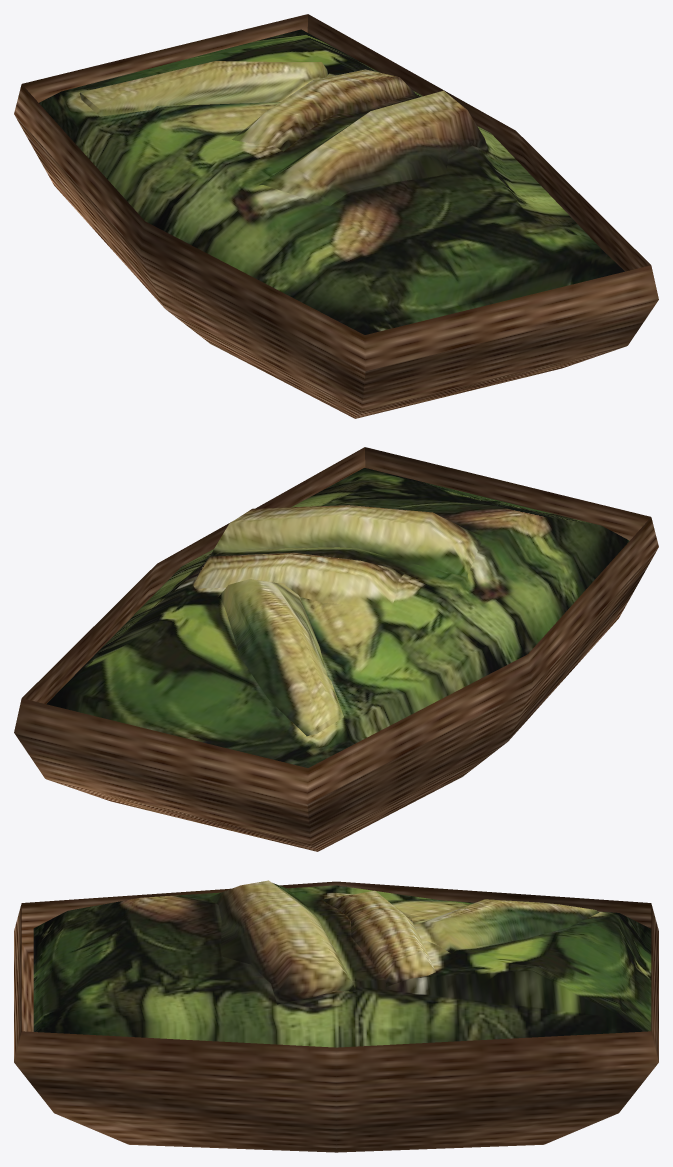
Rendered from cornbasket.fbx.
3 renders of one model, top to bottom at view 1: azimuth 30°, elevation 25°; view 2: azimuth 150°, elevation 25°; view 3: azimuth 270°, elevation 25°, orthographic. The views are drawn at different scales.
Visible parts, largest first — view 1: pSphere1, lod_high, pSphere4, pSphere6, pSphere5; view 2: pSphere1, lod_high, pSphere4, pSphere6, pSphere5; view 3: lod_high, pSphere1, pSphere4, pSphere6, pSphere5.
Boxes of the visible parts, x1,y1,x2,y2 form: pSphere1: (39,29,624,334); lod_high: (14,14,658,418); pSphere4: (258,90,488,205); pSphere6: (79,61,329,116); pSphere5: (232,69,417,151); pSphere1: (46,468,629,767); lod_high: (14,447,658,851); pSphere4: (210,505,482,578); pSphere6: (218,579,343,736); pSphere5: (193,552,404,609); lod_high: (14,881,658,1152); pSphere1: (33,885,651,1047); pSphere4: (208,880,355,1004); pSphere6: (414,899,598,953); pSphere5: (322,891,435,986).
Size of the model in its own units: 63.49 by 33.53 by 101.
1 material, 1 textured.
